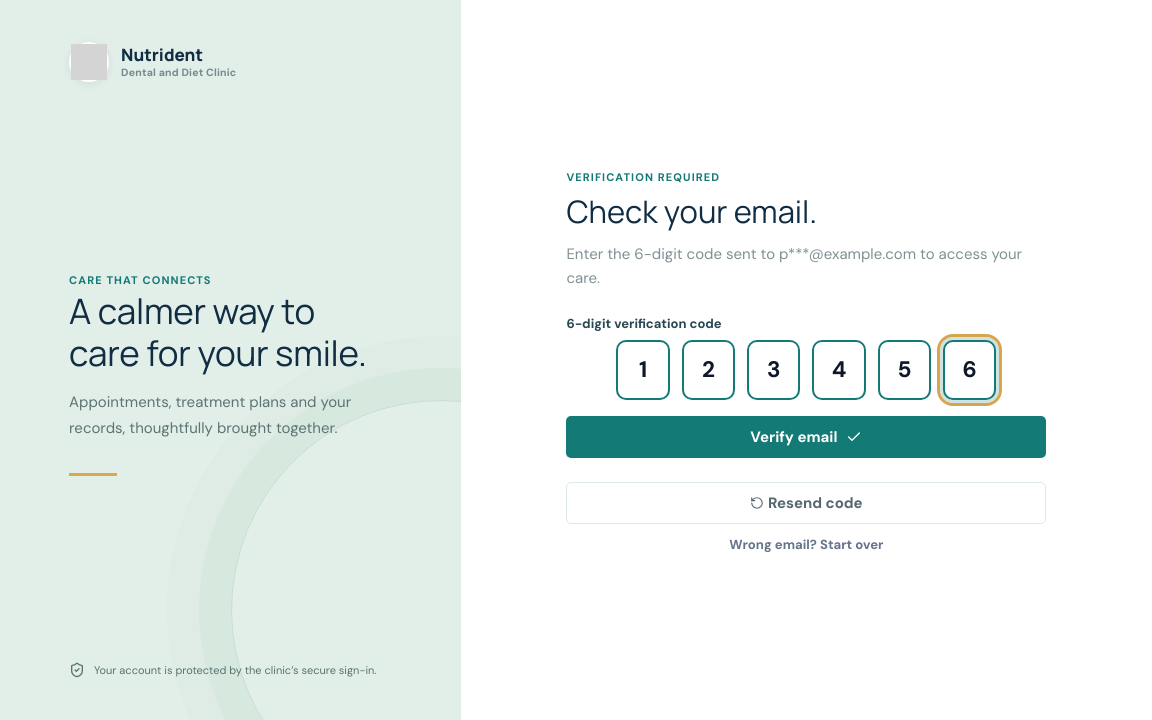
Test: Mandatory OTP Verification flow › VerifyOtpPage: shows masked email, handles OTP verification, sets session and navigates to app
Expected: the text "p***@example.com" is shown, [566,244,1022,288]
Click the button "Verify email" at (806,437), box [566,416,1046,458]
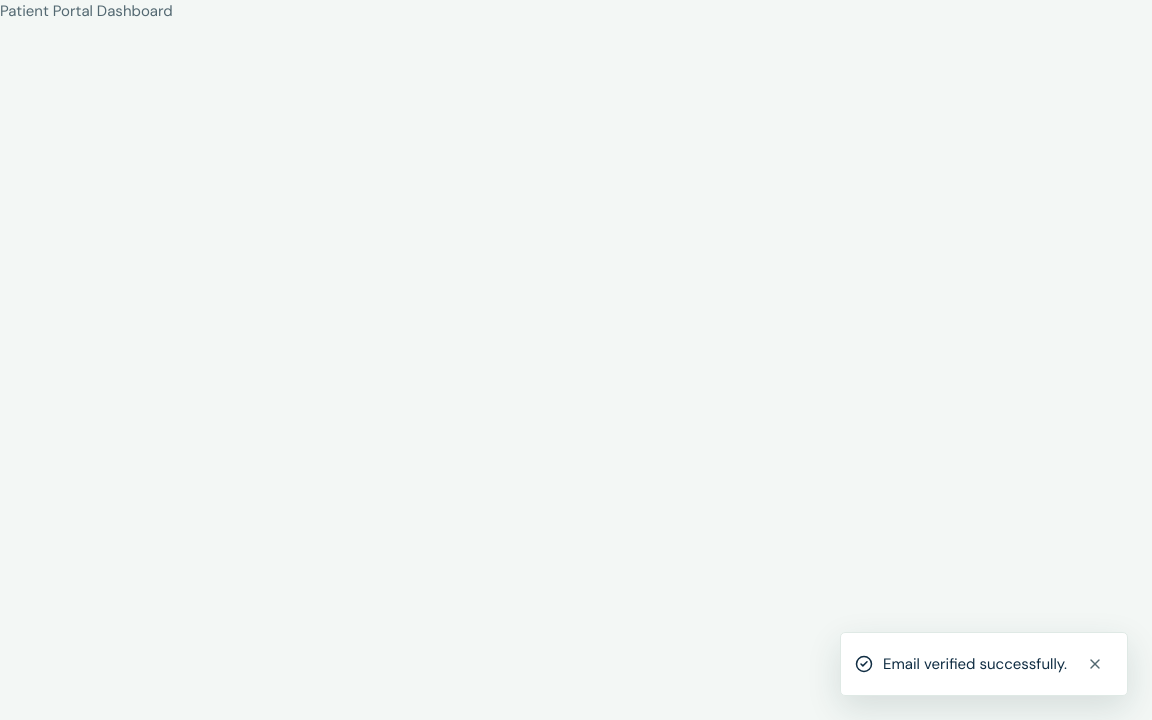
Result: the text "Patient Portal Dashboard" is shown at [0,1,173,21]
